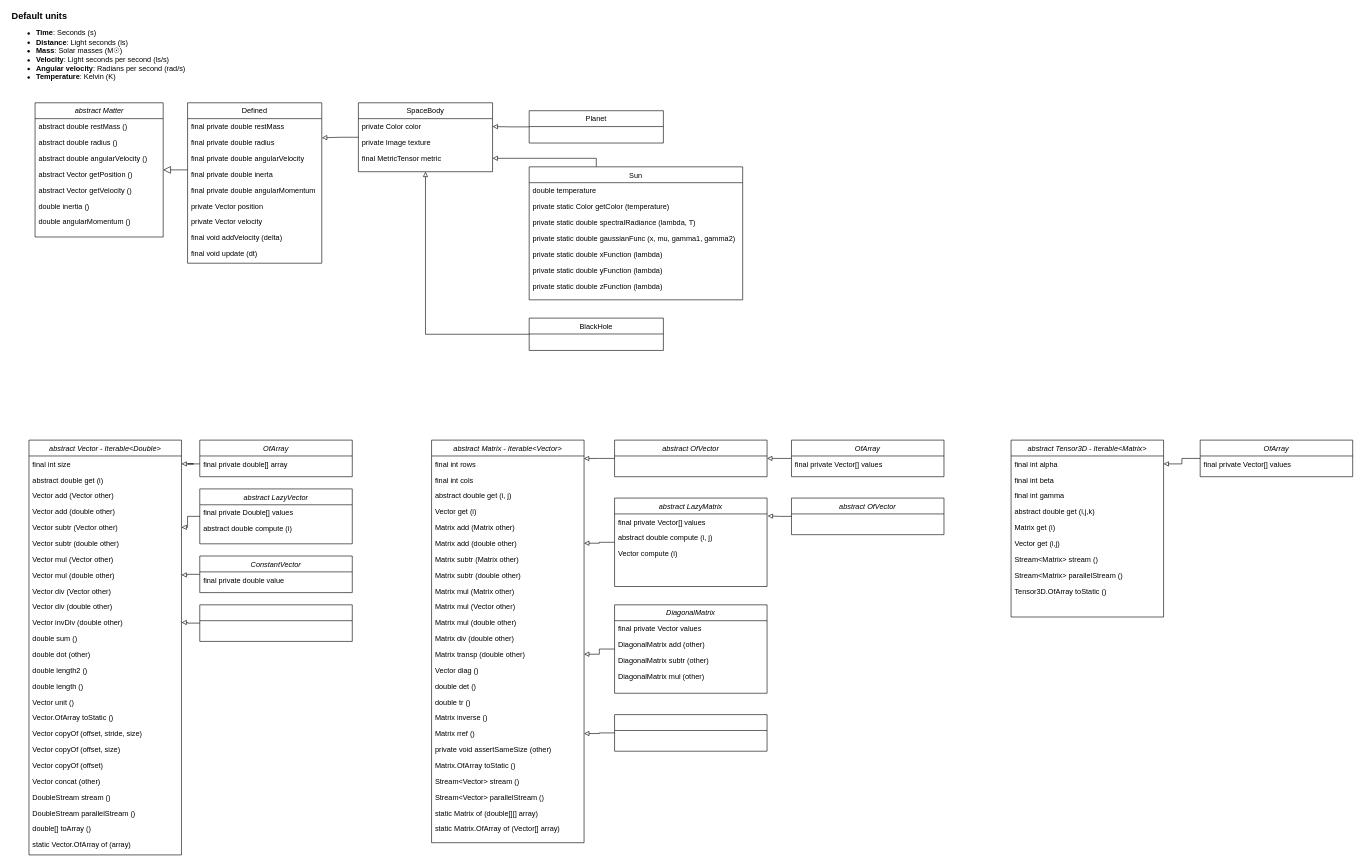
This 1363x866 diagram has some shape labels left out. The shapes that lost their labels are listed below. From the top down, each one's centre as x and y in pixels, then its label:
point 275,622: ZeroVector
point 690,732: ZeroMatrix
